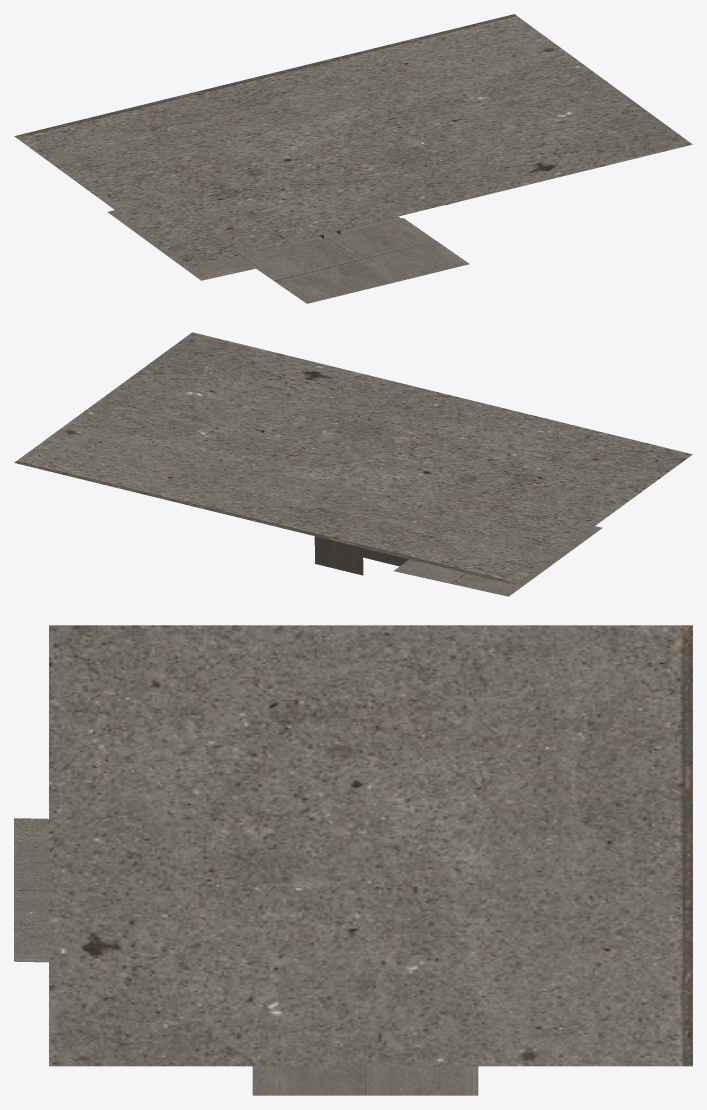
File: 3drop_gallery_v44.glb
3 renders of one model, top to bottom at view 1: azimuth 30°, elevation 25°; view 2: azimuth 150°, elevation 25°; view 3: azimuth 270°, elevation 25°, orthographic. The views are drawn at different scales.
Parts seen in each view (by area): view 1: frameConcreteExternalTop, sidePlateformConcrete_grndPhys, backPlateformConcrete_grndPhys; view 2: frameConcreteExternalTop, backPlateformConcrete_grndPhys, frameVisitableZoneSuround; view 3: frameConcreteExternalTop, frontPlateformConcrete_grndPhys, sidePlateformConcrete_grndPhys.
Part boxes in pixels (x1,y1,x2,y2): frameConcreteExternalTop: [14, 14, 692, 266]; sidePlateformConcrete_grndPhys: [256, 218, 469, 303]; backPlateformConcrete_grndPhys: [108, 210, 293, 280]; frameConcreteExternalTop: [14, 332, 692, 584]; backPlateformConcrete_grndPhys: [393, 526, 602, 596]; frameVisitableZoneSuround: [314, 536, 408, 575]; frameConcreteExternalTop: [49, 625, 692, 1066]; frontPlateformConcrete_grndPhys: [252, 1066, 478, 1095]; sidePlateformConcrete_grndPhys: [14, 818, 48, 962].
Size of the model in its own units: 348 by 60.64 by 227.
Materials: 2 (2 with a texture image).
